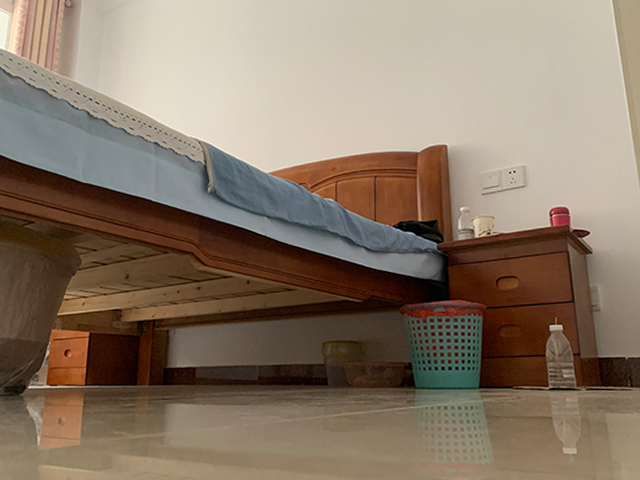bed: (1, 48, 453, 386)
cabinet: (437, 225, 602, 388), (46, 329, 139, 386)
trashcan: (398, 298, 486, 389)
